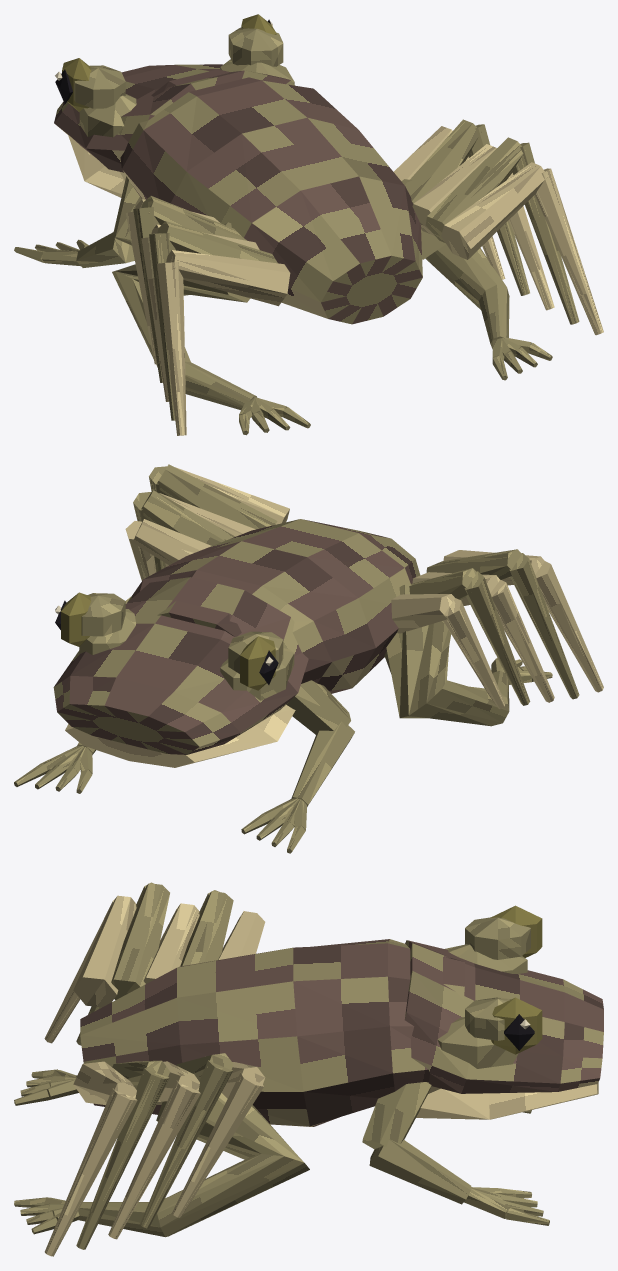
File: mon_leo_worm.glb
3 renders of one model, top to bottom at view 1: azimuth 30°, elevation 25°; view 2: azimuth 150°, elevation 25°; view 3: azimuth 270°, elevation 25°, orthographic. The views are drawn at different scales.
Parts seen in each view (by area): view 1: closed_body; view 2: closed_body; view 3: closed_body.
Part boxes in pixels (x1=…): closed_body: x1=14, y1=14, x2=603, y2=435; closed_body: x1=14, y1=464, x2=603, y2=853; closed_body: x1=14, y1=882, x2=603, y2=1256.
Bounding box in the file's own units: 0.1875 × 0.0821 × 0.2143.
Materials: 1 (1 with a texture image).
